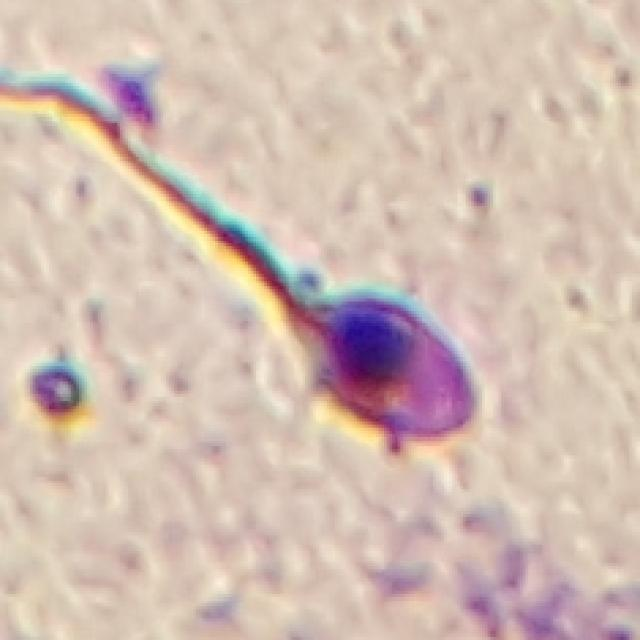normal sperm: (208, 212, 482, 442)
